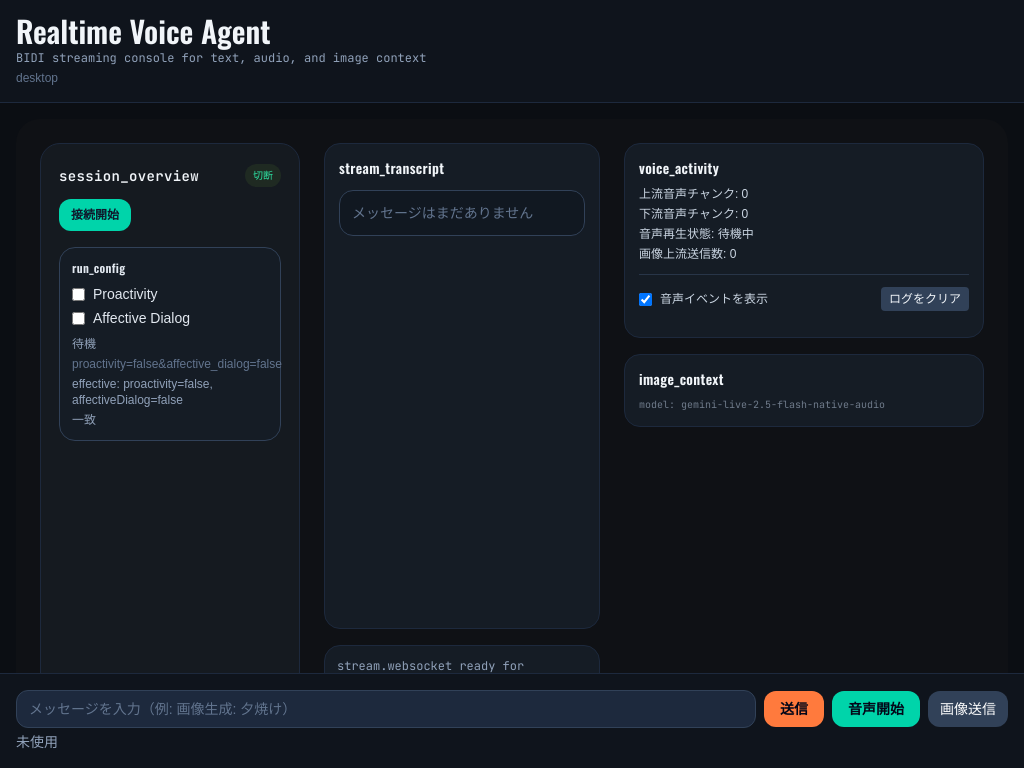
Test: App shell › records event logs with timestamp and allows detail expansion
The image size is (1024, 768).
Type "イベントログ確認" into the field named "テキスト入力" at (386, 709), box [16,690,756,728]
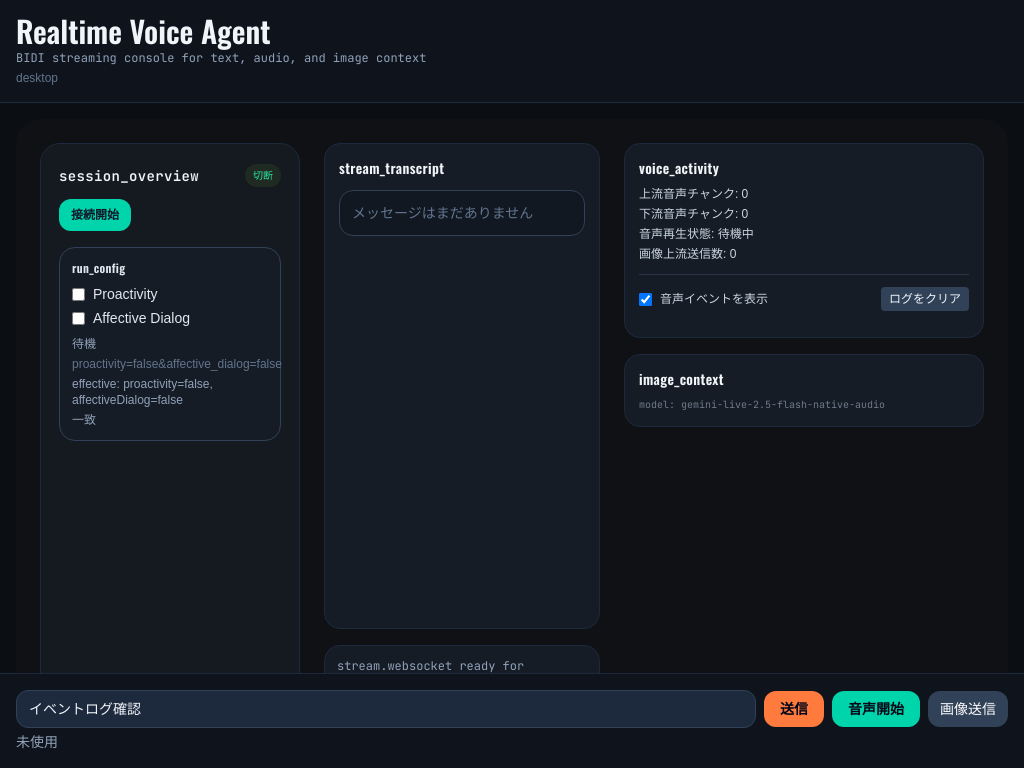
Click the button "送信" at (794, 709), box [764,691,824,727]
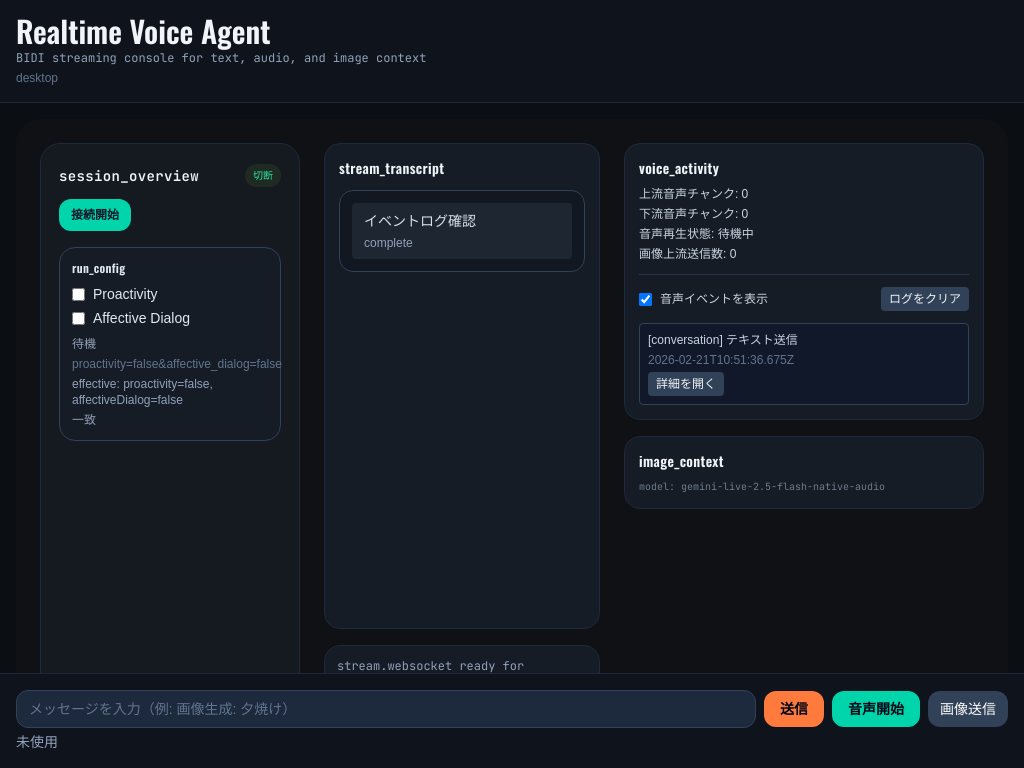
Result: the list item with test id "event-log-item" shows "t" at [639,323,969,405]
Click the button "詳細を開く" at (686, 384), box [648,372,724,396]
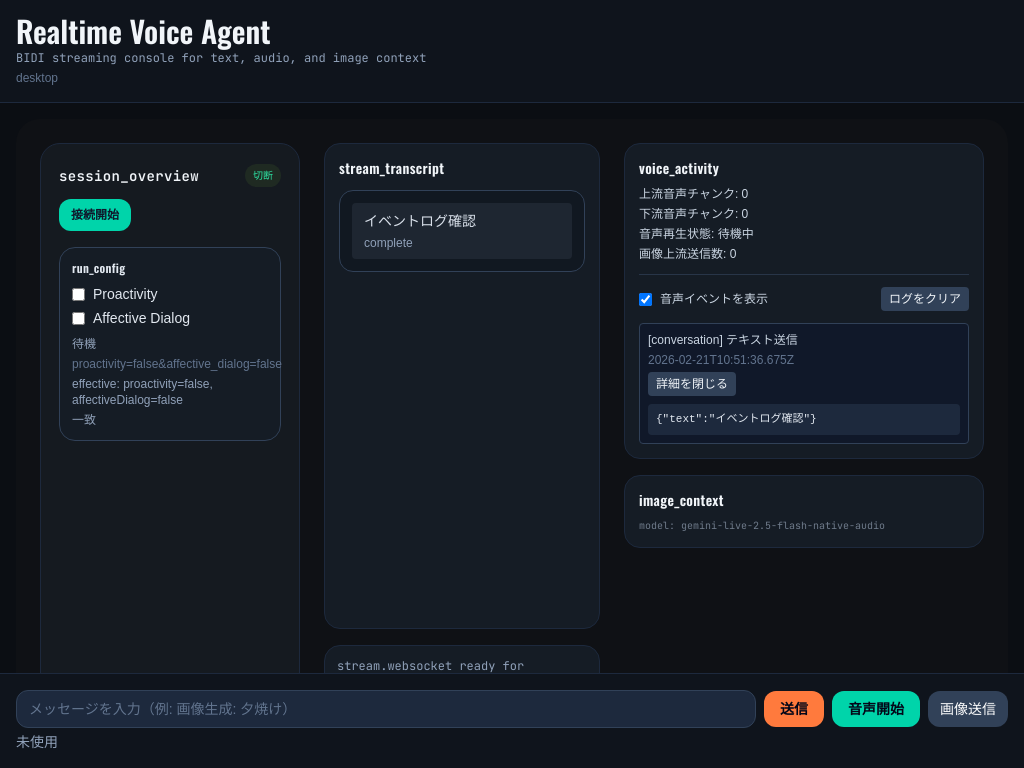
Result: the text "{\"text\":\"イベントログ確認\"}" is shown at [648,404,960,435]
